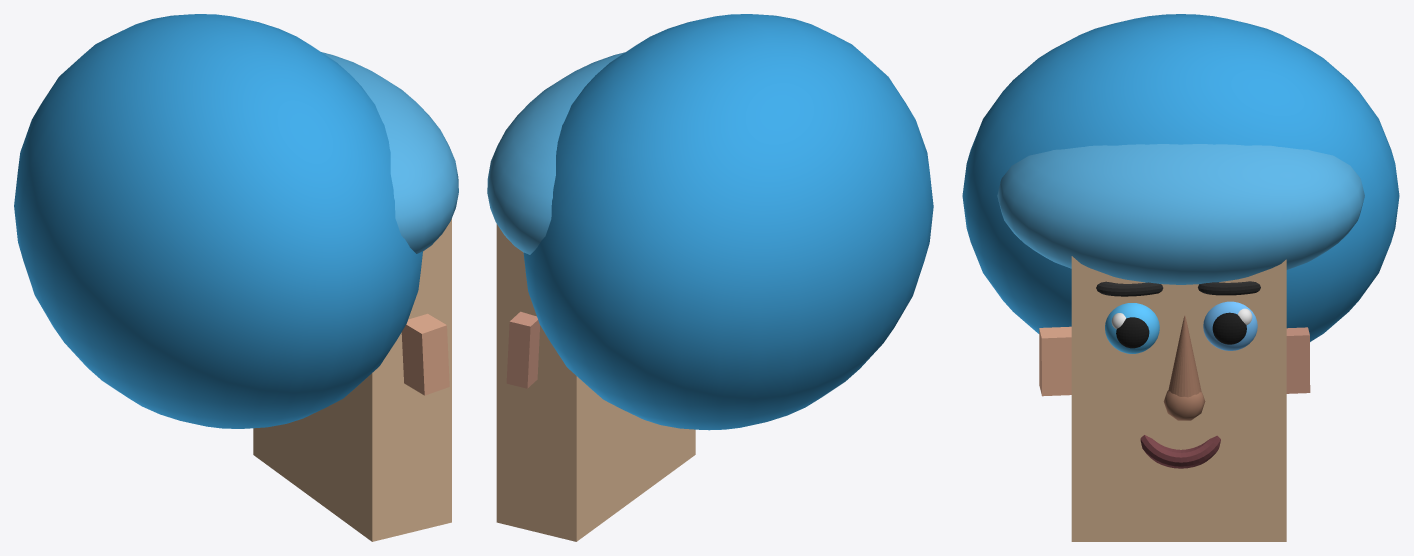
3 renders of one model, left to right at view 1: azimuth 30°, elevation 25°; view 2: azimuth 150°, elevation 25°; view 3: azimuth 270°, elevation 25°, orthographic. The views are drawn at different scales.
Parts seen in each view (by area): view 1: Sphere_002, Cube, Sphere_003, Cube_001; view 2: Sphere_002, Cube, Sphere_003, Cube_002; view 3: Sphere_002, Cube, Sphere_003, Cube_001, Cube_002, Torus_002, Cone, Sphere_001, Sphere, Icosphere, Sphere_005, Torus (+2 smaller).
Boxes of the visible parts, bbox=[...] form: Sphere_002: bbox=[14, 14, 422, 428]; Cube: bbox=[253, 218, 451, 541]; Sphere_003: bbox=[321, 52, 458, 253]; Cube_001: bbox=[401, 313, 449, 395]; Sphere_002: bbox=[523, 14, 933, 430]; Cube: bbox=[496, 224, 695, 541]; Sphere_003: bbox=[487, 52, 624, 254]; Cube_002: bbox=[506, 311, 539, 388]; Sphere_002: bbox=[962, 14, 1399, 341]; Cube: bbox=[1071, 256, 1286, 541]; Sphere_003: bbox=[997, 144, 1364, 284]; Cube_001: bbox=[1039, 326, 1071, 396]; Cube_002: bbox=[1286, 327, 1310, 393]; Torus_002: bbox=[1140, 435, 1220, 468]; Cone: bbox=[1168, 315, 1201, 397]; Sphere_001: bbox=[1105, 303, 1159, 353]; Sphere: bbox=[1203, 301, 1257, 350]; Icosphere: bbox=[1163, 390, 1205, 420]; Sphere_005: bbox=[1212, 312, 1246, 344]; Torus: bbox=[1096, 281, 1163, 296].
Size of the model in its own units: 0.5552 by 0.63 by 0.6945.
